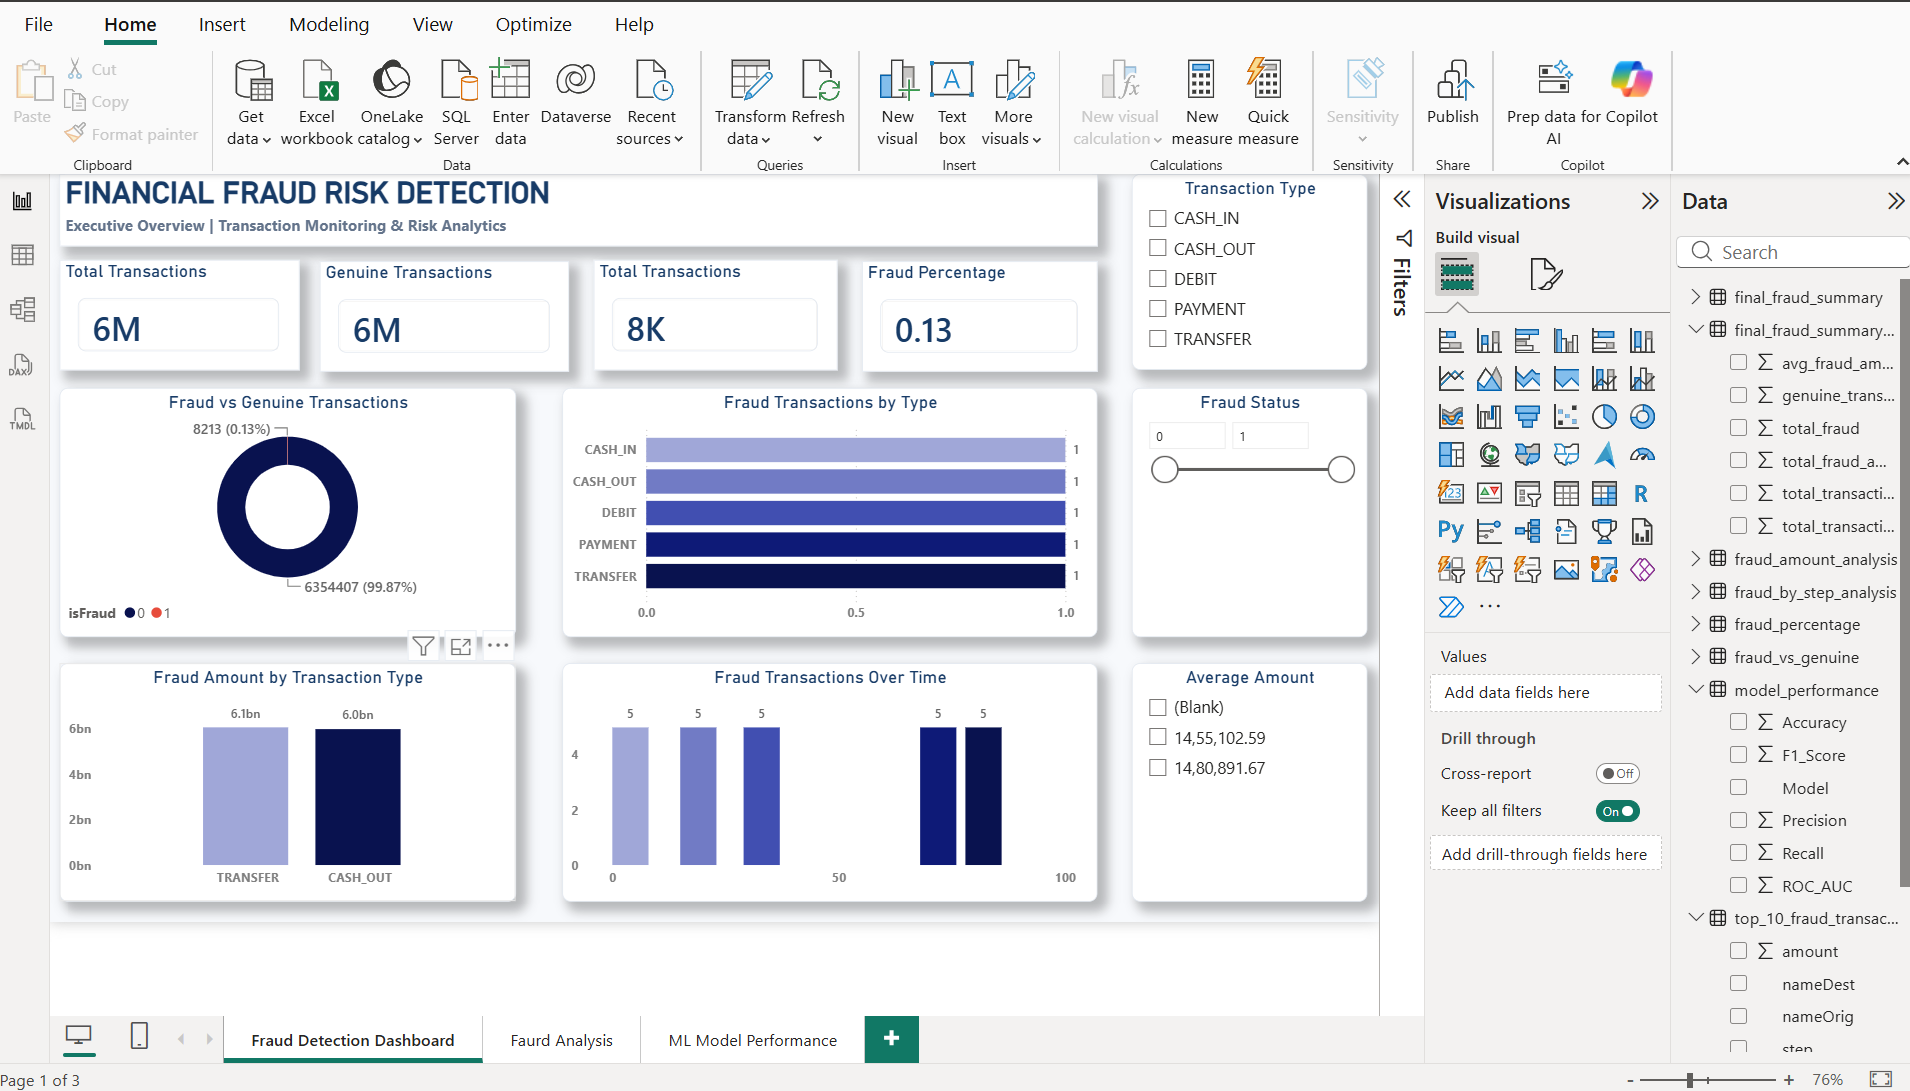

This screenshot's page, from the dashboard's own definition file:
{"tool":"powerbi","page":{"name":"Fraud Detection Dashboard","canvas":[1280,720],"ordinal":0},"visuals":[{"type":"textbox","title":"FINANCIAL FRAUD RISK DETECTION","box":[9.2,0,999.6,69.5],"z":0},{"type":"cardVisual","title":"Total Transactions","fields":{"Data":["Sum(fraud_vs_genuine.total_transactions)"]},"box":[9.2,82.6,230.9,106.3],"z":1000},{"type":"cardVisual","title":"Total Transactions","fields":{"Data":["Sum(final_fraud_summary (2).total_fraud)"]},"box":[523.4,82.6,234.8,106.3],"z":2000},{"type":"cardVisual","title":"Genuine Transactions","fields":{"Data":["Sum(final_fraud_summary (2).genuine_transactions)"]},"box":[259.8,84,240.1,106.3],"z":3000},{"type":"cardVisual","title":"Fraud Percentage","fields":{"Data":["Sum(fraud_percentage.fraud_percentage)"]},"box":[781.9,84,227,106.3],"z":4000},{"type":"donutChart","title":"Fraud vs Genuine Transactions","fields":{"Y":["Sum(fraud_vs_genuine.total_transactions)"],"Category":["fraud_vs_genuine.isFraud"]},"box":[9.2,206,439.5,240.1],"z":5000},{"type":"clusteredBarChart","title":"Fraud Transactions by Type","fields":{"Y":["CountNonNull(transaction_type_analysis.fraud_transactions)"],"Category":["transaction_type_analysis.type"]},"box":[493.3,206,515.6,240.1],"z":6000},{"type":"clusteredColumnChart","title":"Fraud Amount by Transaction Type","fields":{"Category":["fraud_amount_analysis.type"],"Y":["Sum(fraud_amount_analysis.total_fraud_amount)"]},"box":[9.2,471,439.5,229.6],"z":7000},{"type":"clusteredColumnChart","title":"Fraud Transactions Over Time","fields":{"Category":["top_10_fraud_transactions.step"],"Y":["CountNonNull(transaction_type_analysis.fraud_transactions)"]},"box":[493.3,471,515.6,229.6],"z":8000},{"type":"slicer","title":"Transaction Type","fields":{"Values":["transaction_type_analysis.type"]},"box":[1041.6,0,227,188.9],"z":9000},{"type":"slicer","title":"Fraud Status","fields":{"Values":["fraud_vs_genuine.isFraud"]},"box":[1041.6,206,227,240.1],"z":10000},{"type":"slicer","title":"Average Amount","fields":{"Values":["fraud_amount_analysis.average_fraud_amount"]},"box":[1042,471,227,230],"z":11000}]}

Visuals, with their boxes on the page's 1280x720 design canvas (x1, y1, x2, y2). These are canvas units, not pixel positions in the 1910x1091 screenshot, which may show the page scaled, cropped or inside an application window:
"FINANCIAL FRAUD RISK DETECTION" textbox: (left=9, top=0, right=1009, bottom=70)
"Total Transactions" cardVisual: (left=9, top=83, right=240, bottom=189)
"Total Transactions" cardVisual: (left=523, top=83, right=758, bottom=189)
"Genuine Transactions" cardVisual: (left=260, top=84, right=500, bottom=190)
"Fraud Percentage" cardVisual: (left=782, top=84, right=1009, bottom=190)
"Fraud vs Genuine Transactions" donutChart: (left=9, top=206, right=449, bottom=446)
"Fraud Transactions by Type" clusteredBarChart: (left=493, top=206, right=1009, bottom=446)
"Fraud Amount by Transaction Type" clusteredColumnChart: (left=9, top=471, right=449, bottom=701)
"Fraud Transactions Over Time" clusteredColumnChart: (left=493, top=471, right=1009, bottom=701)
"Transaction Type" slicer: (left=1042, top=0, right=1269, bottom=189)
"Fraud Status" slicer: (left=1042, top=206, right=1269, bottom=446)
"Average Amount" slicer: (left=1042, top=471, right=1269, bottom=701)
